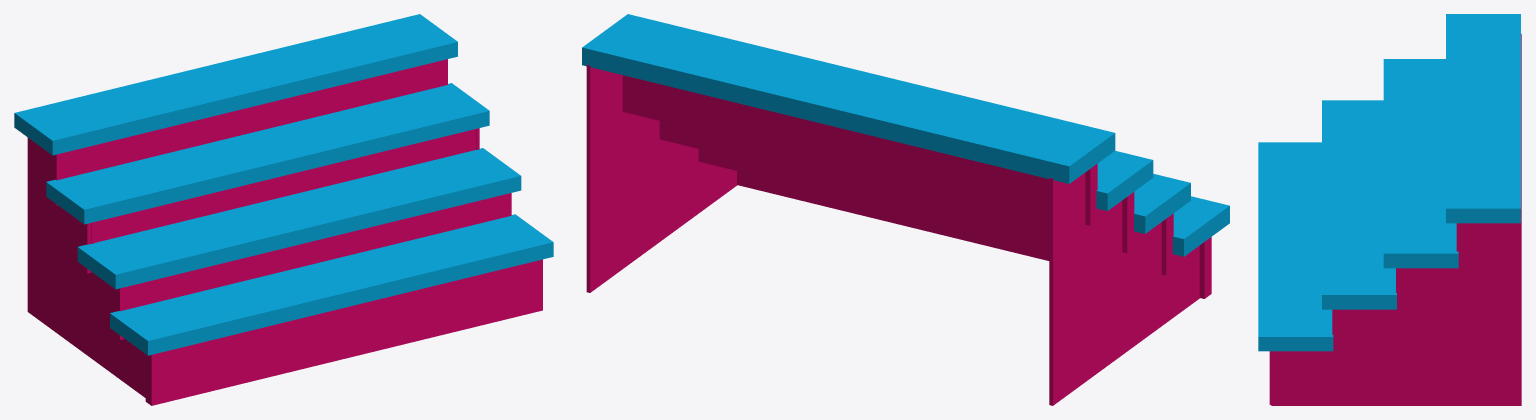
File: H05_Front_01D.fbx
3 renders of one model, left to right at view 1: azimuth 30°, elevation 25°; view 2: azimuth 150°, elevation 25°; view 3: azimuth 270°, elevation 25°, orthographic. The views are drawn at different scales.
Visible parts, largest first — view 1: H05_Front_01D; view 2: H05_Front_01D; view 3: H05_Front_01D.
Part boxes in pixels (x1,y1,x2,y2): H05_Front_01D: (14, 14, 553, 405); H05_Front_01D: (582, 14, 1229, 405); H05_Front_01D: (1258, 14, 1521, 405).
Size of the model in its own units: 179 by 85.2 by 102.
